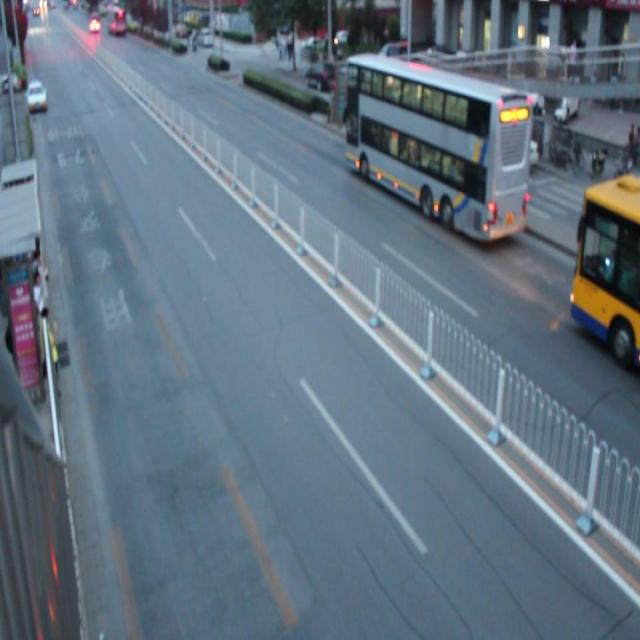van: (345, 55, 530, 242), (567, 177, 640, 365)
